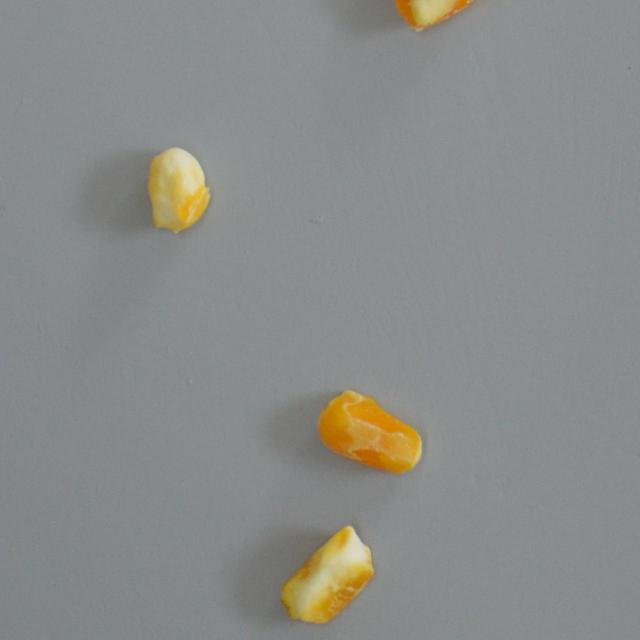pelicula: (278, 524, 375, 624), (318, 389, 422, 472), (383, 0, 490, 30)
